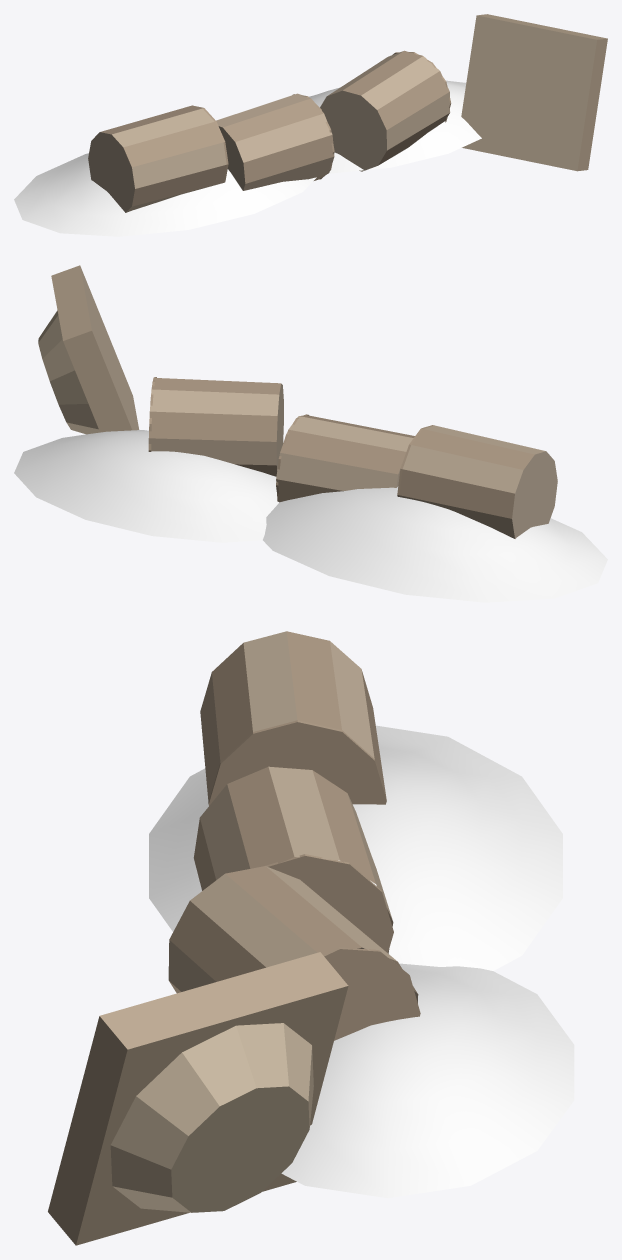
The model's file is ruinas_columna_c.glb.
3 renders of one model, top to bottom at view 1: azimuth 30°, elevation 25°; view 2: azimuth 150°, elevation 25°; view 3: azimuth 270°, elevation 25°, orthographic. The views are drawn at different scales.
Parts seen in each view (by area): view 1: ruinas_columna_c, ruinas_columna_c_arena; view 2: ruinas_columna_c_arena, ruinas_columna_c; view 3: ruinas_columna_c, ruinas_columna_c_arena.
Part boxes in pixels (left/top/right/bottom): ruinas_columna_c: left=88, top=14, right=607, bottom=212; ruinas_columna_c_arena: left=14, top=80, right=481, bottom=236; ruinas_columna_c_arena: left=14, top=430, right=607, bottom=602; ruinas_columna_c: left=38, top=265, right=557, bottom=538; ruinas_columna_c: left=48, top=631, right=420, bottom=1245; ruinas_columna_c_arena: left=149, top=725, right=574, bottom=1198.
Bounding box in the file's own units: 5.74 × 1.27 × 2.48.
